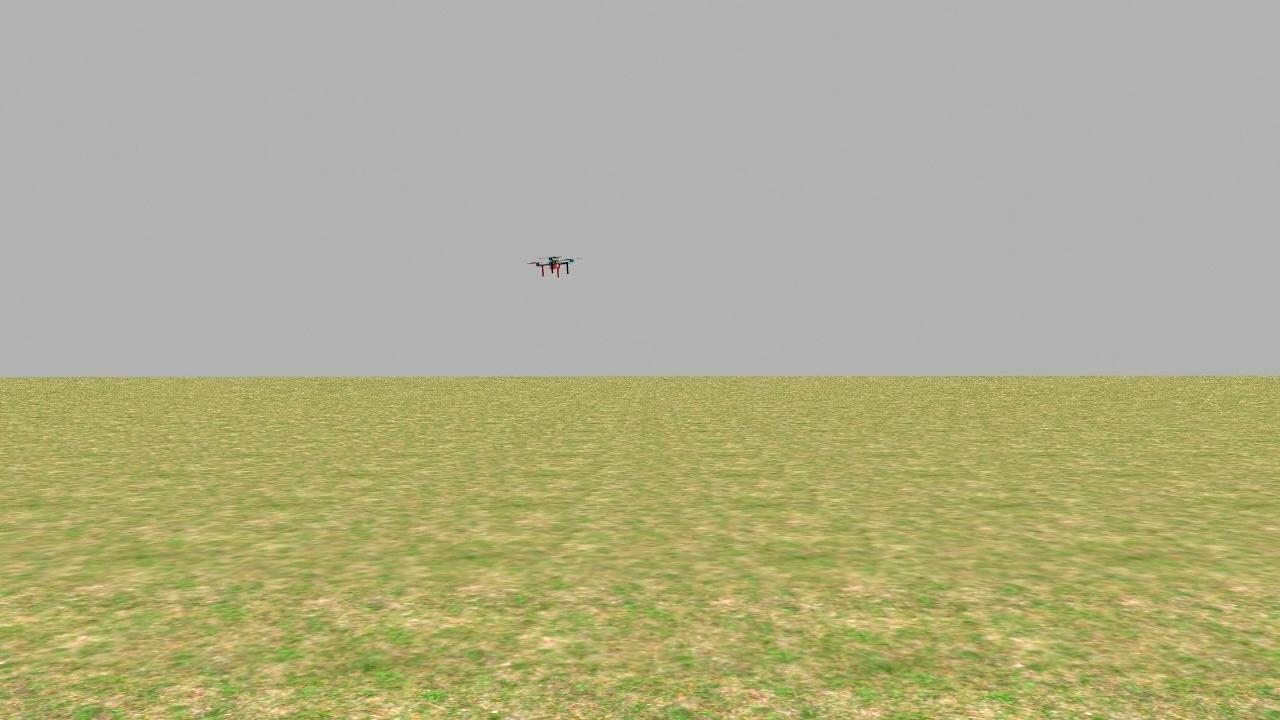UAV: (532, 249, 576, 287)
